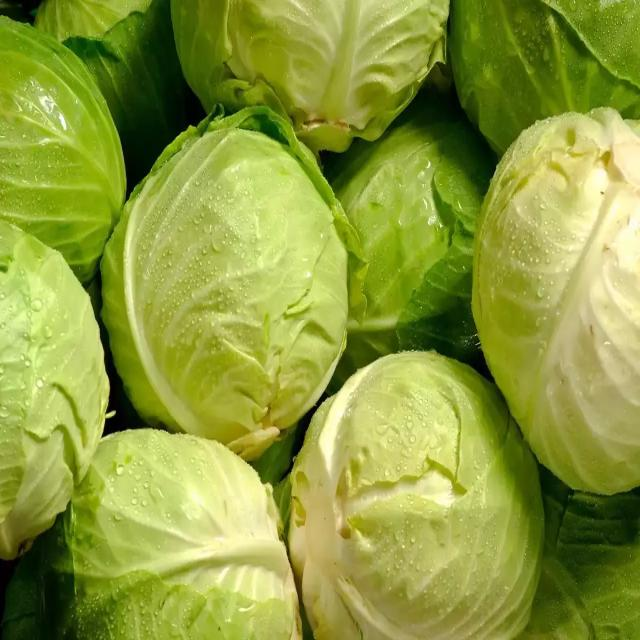Cabbage: (108, 121, 349, 445), (289, 349, 544, 640), (470, 110, 640, 498), (3, 431, 305, 640), (332, 99, 492, 366), (178, 0, 444, 152), (0, 225, 110, 555), (2, 17, 124, 280)
